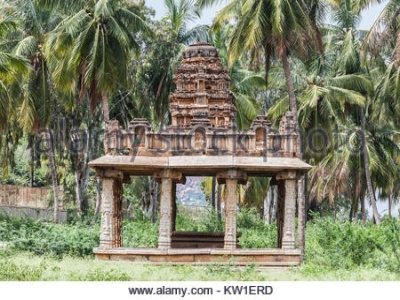mandapa: (80, 136, 326, 263)
